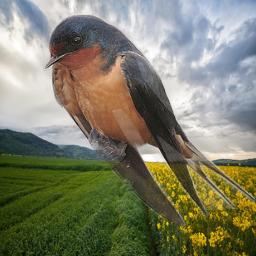Swallow: (43, 12, 255, 226)
